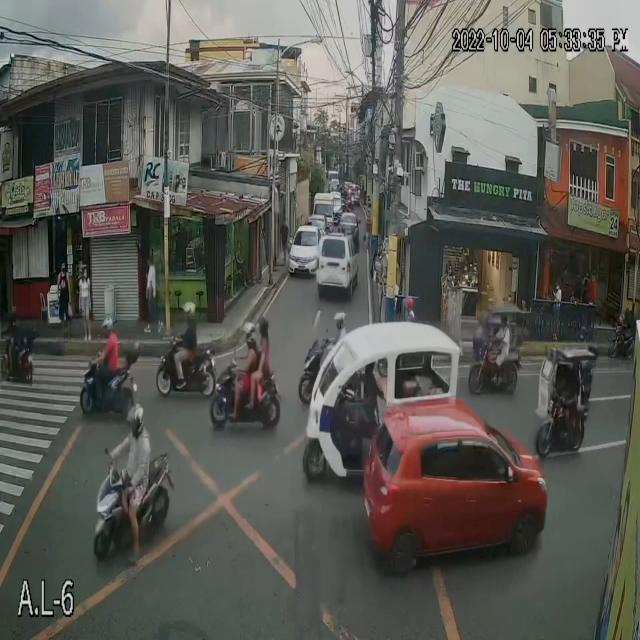Full-Faced: (126, 403, 150, 440), (100, 311, 116, 340)
Half-Faced: (182, 299, 202, 332), (330, 307, 349, 336), (243, 318, 259, 347)
Invalid: (402, 295, 416, 315)
Not-Wearing-Helmet: (256, 314, 270, 341)
